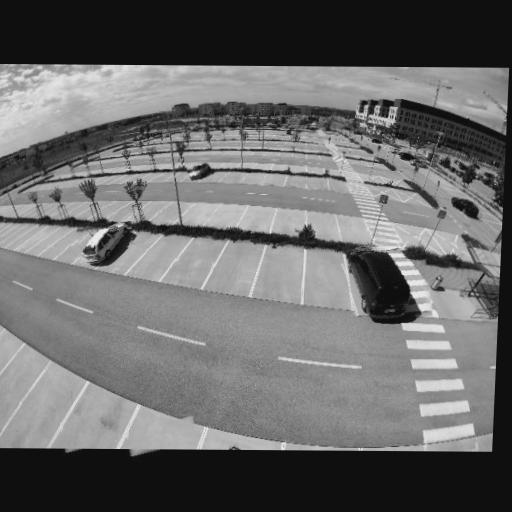busy: (345, 241, 433, 325), (77, 223, 136, 264), (452, 196, 480, 217), (186, 164, 213, 180)
free: (126, 419, 198, 453), (61, 417, 117, 451), (261, 256, 307, 294), (306, 265, 351, 302), (17, 397, 63, 433), (216, 254, 259, 286), (176, 249, 215, 279), (0, 377, 24, 413), (113, 247, 139, 273), (340, 220, 370, 240), (307, 214, 337, 234), (276, 214, 307, 233), (147, 248, 177, 267), (245, 214, 273, 230), (186, 207, 214, 222), (62, 243, 86, 260), (324, 177, 348, 194), (215, 209, 241, 224), (306, 177, 328, 192), (100, 202, 118, 218), (51, 240, 71, 254), (116, 206, 137, 218), (161, 209, 183, 220), (287, 178, 308, 189), (141, 205, 160, 217), (264, 176, 286, 186), (246, 176, 266, 185), (290, 166, 309, 175), (226, 175, 243, 183), (39, 238, 55, 246), (206, 175, 223, 182), (175, 173, 189, 181), (160, 175, 174, 182)
